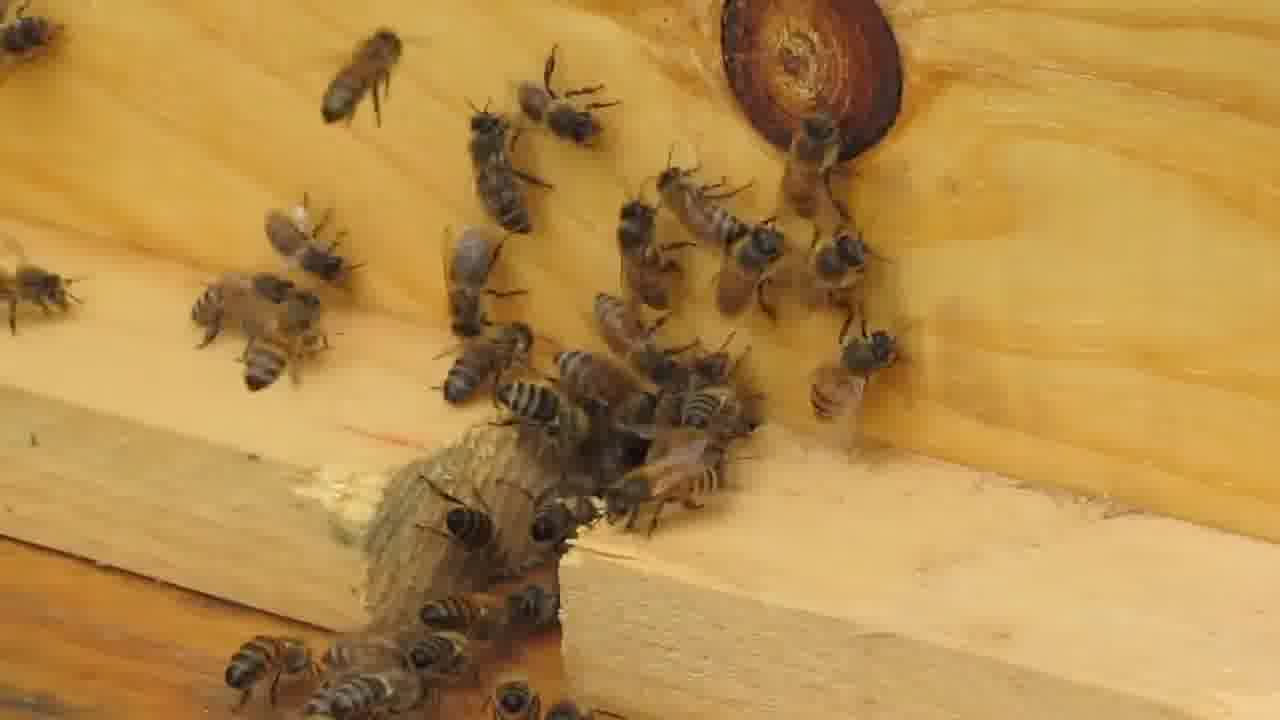pollen: (264, 185, 362, 284)
